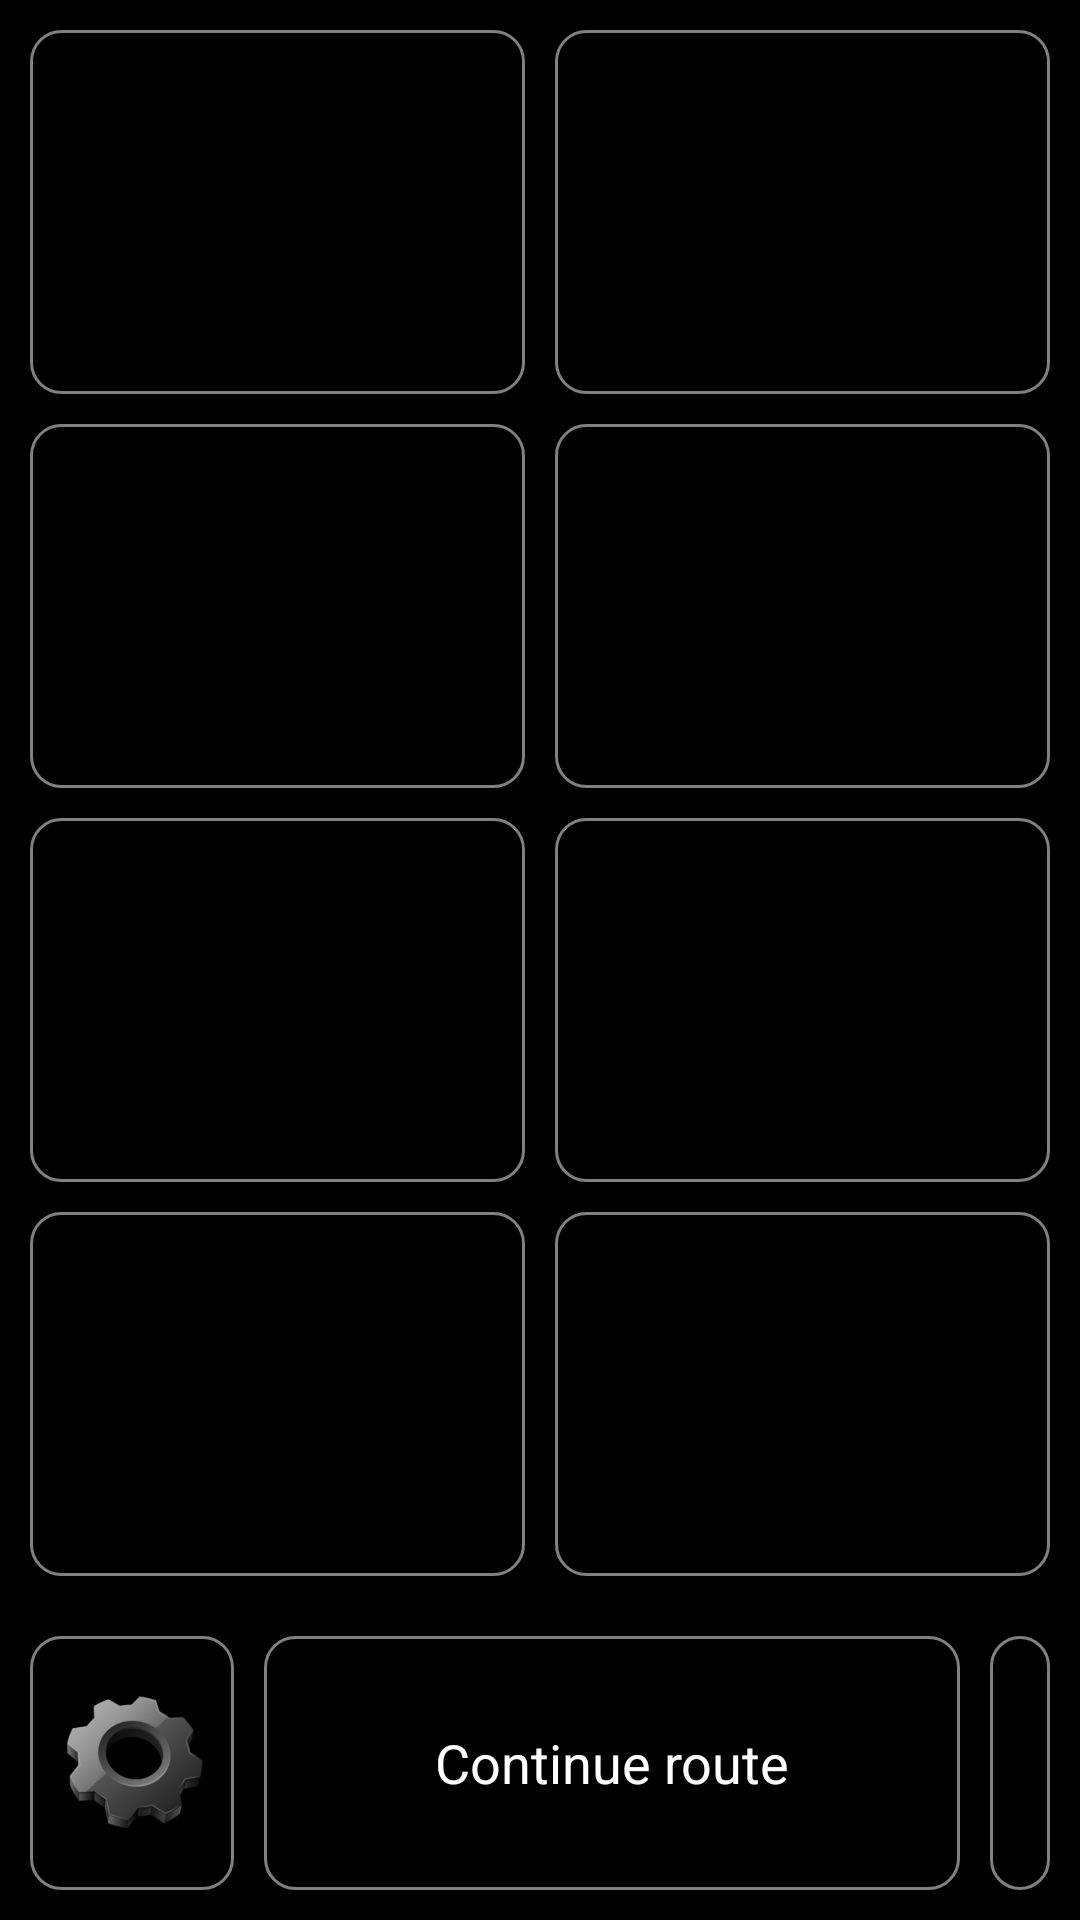

Named icons in this screenshot (1080×1920) and their centers, point (x, y):
settings: point (134, 1762)
